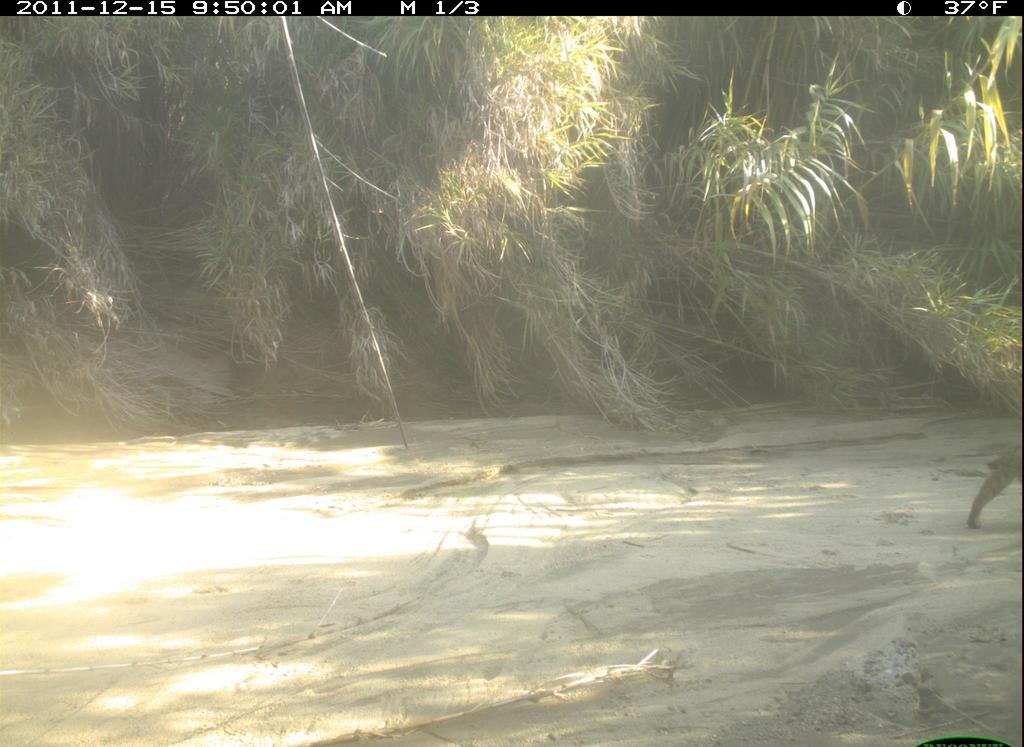bobcat: (945, 415, 1021, 559)
